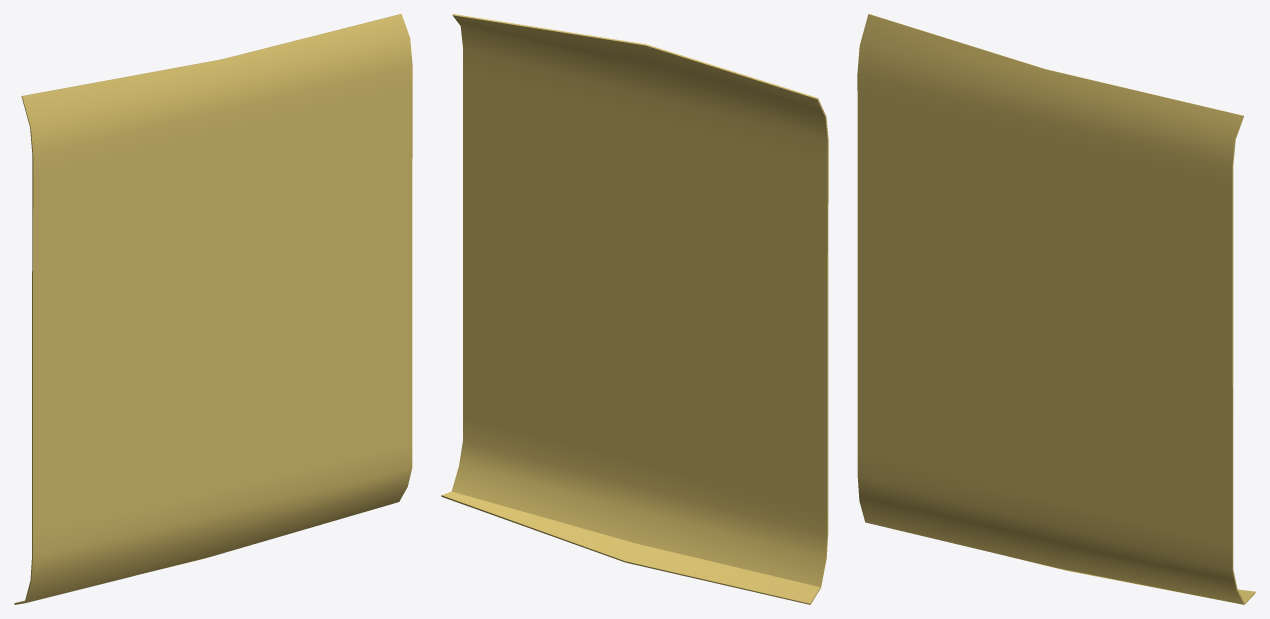
Rendered from Papel para las tareas.fbx.
3 views of the same model, side by side, from view 1: azimuth 30°, elevation 25°; view 2: azimuth 150°, elevation 25°; view 3: azimuth 330°, elevation 25° (orthographic). The views are drawn at different scales.
Parts seen in each view (by area): view 1: Hoja; view 2: Hoja; view 3: Hoja.
Part boxes in pixels (left/top/right/bottom): Hoja: left=14, top=14, right=412, bottom=604; Hoja: left=441, top=14, right=828, bottom=604; Hoja: left=857, top=14, right=1255, bottom=604.
Bounding box in the file's own units: 22.98 × 30.06 × 2.52.
